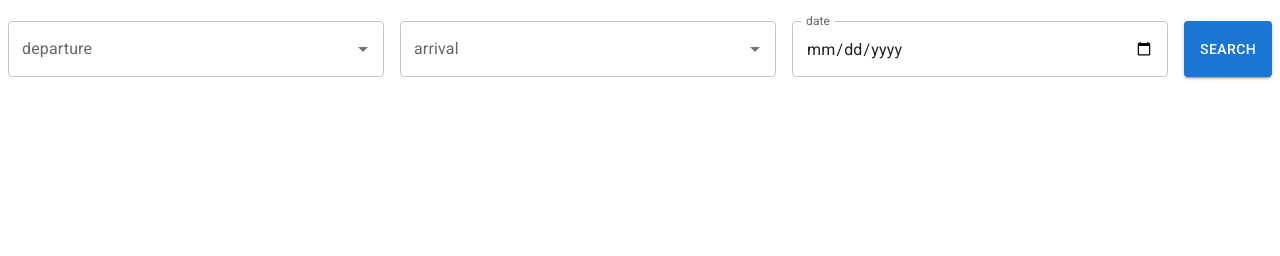
Test: SearchForm (Vitest) › 1. Renders the form elements and loads agencies via react-query
Expected: the dropdown labelled "arrival" is shown, top-left (409, 30), bottom-right (737, 68)
Expected: the date field labelled "date" is shown, top-left (792, 21), bottom-right (1168, 77)
User click opens the dropdown where options are found
Click the dropdown labelled "departure": (181, 49) top-left (17, 30), bottom-right (345, 68)
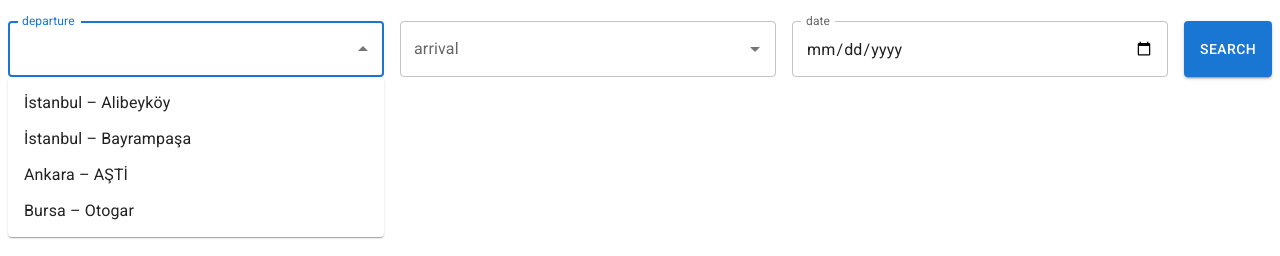
Result: the option "İstanbul – Alibeyköy" is shown at top-left (24, 93), bottom-right (170, 112)
